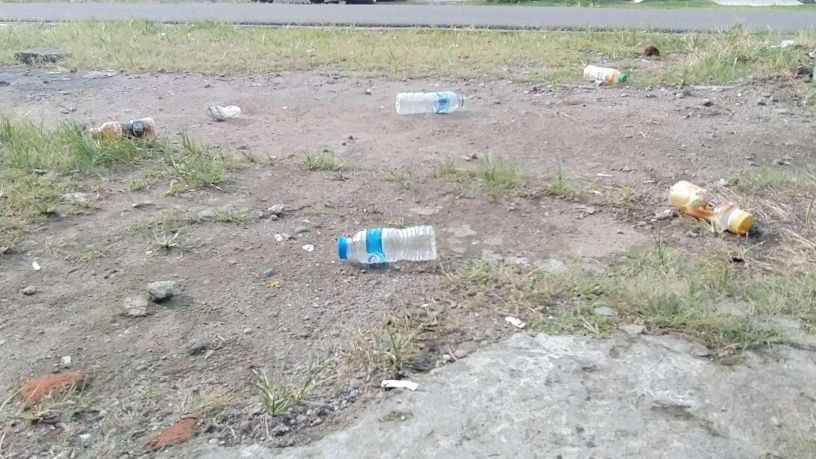botol: (328, 211, 468, 270), (660, 173, 758, 232), (386, 70, 471, 116), (580, 55, 627, 93)
